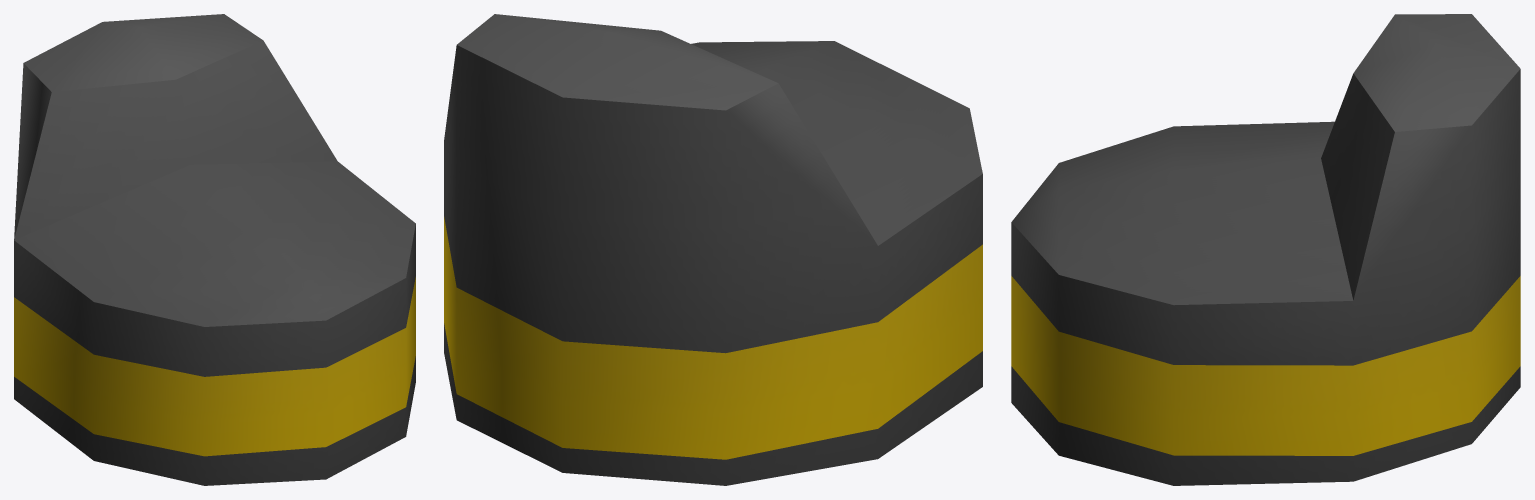
The model's file is I_hat_2_lvl.fbx.
The picture shows the model from 3 angles, left to right: view 1: azimuth 30°, elevation 25°; view 2: azimuth 150°, elevation 25°; view 3: azimuth 270°, elevation 25°; orthographic projection. The views are drawn at different scales.
Parts seen in each view (by area): view 1: I_hat_2_lvl; view 2: I_hat_2_lvl; view 3: I_hat_2_lvl.
Part boxes in pixels (x1,y1,x2,y2): I_hat_2_lvl: (14, 14, 415, 485); I_hat_2_lvl: (444, 14, 982, 485); I_hat_2_lvl: (1011, 14, 1520, 485).
Size of the model in its own units: 0.5408 by 0.5078 by 0.6475.
